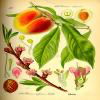Peach leaf: (59, 22, 96, 69), (32, 25, 61, 70)
